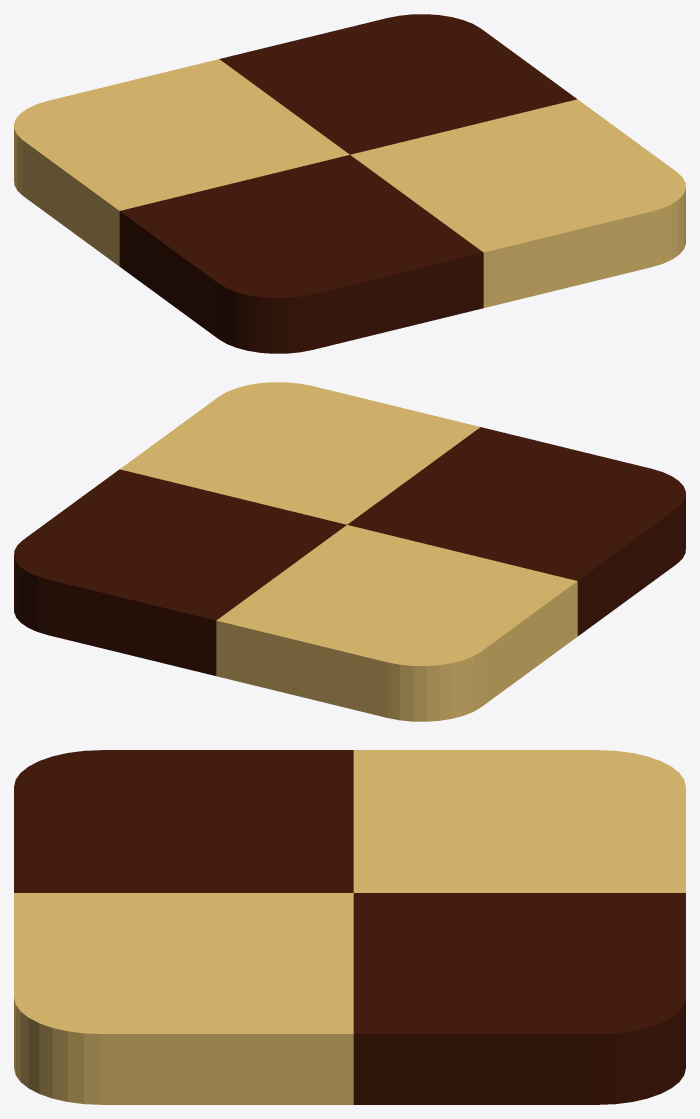
The model's file is Cookie.fbx.
3 views of the same model, one above another, from view 1: azimuth 30°, elevation 25°; view 2: azimuth 150°, elevation 25°; view 3: azimuth 270°, elevation 25° (orthographic). The views are drawn at different scales.
Visible parts, largest first — view 1: 立方体; view 2: 立方体; view 3: 立方体.
Part boxes in pixels (x1=…): 立方体: x1=14, y1=14, x2=685, y2=353; 立方体: x1=14, y1=382, x2=685, y2=721; 立方体: x1=14, y1=750, x2=685, y2=1104.
Size of the model in its own units: 394 by 45.75 by 394.
